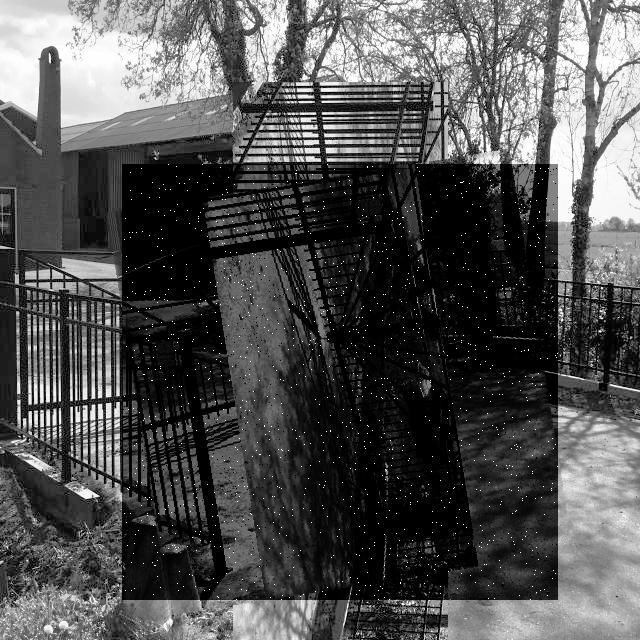fences: (122, 164, 558, 600)
